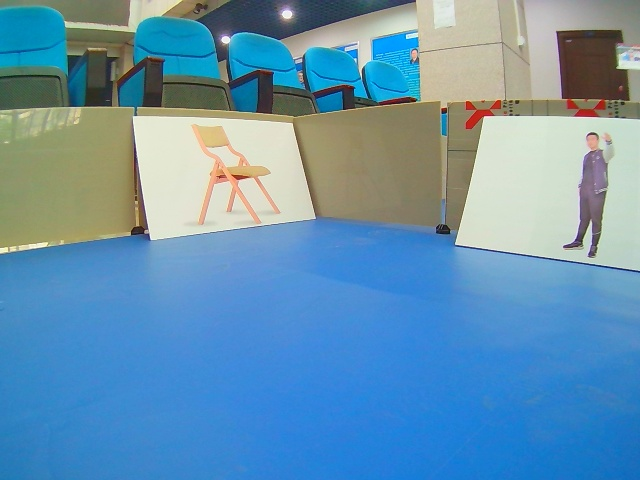person: (455, 117, 640, 272)
table: (134, 115, 315, 242)
